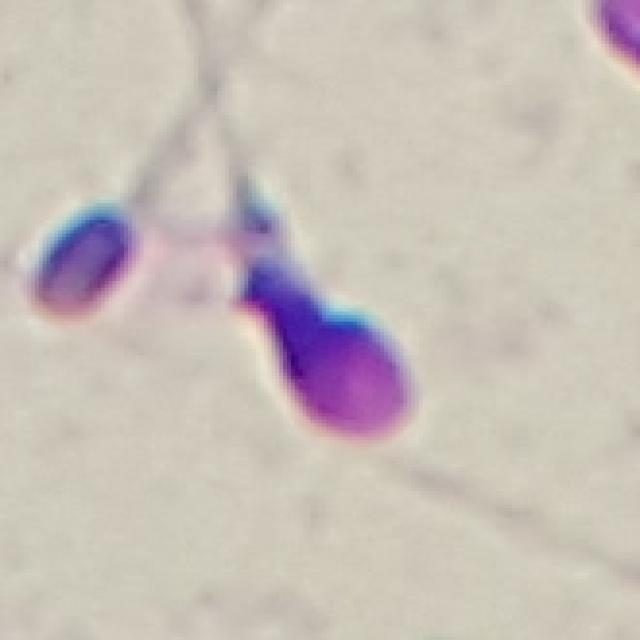abnormal sperm: (216, 110, 447, 454), (19, 45, 190, 335)
